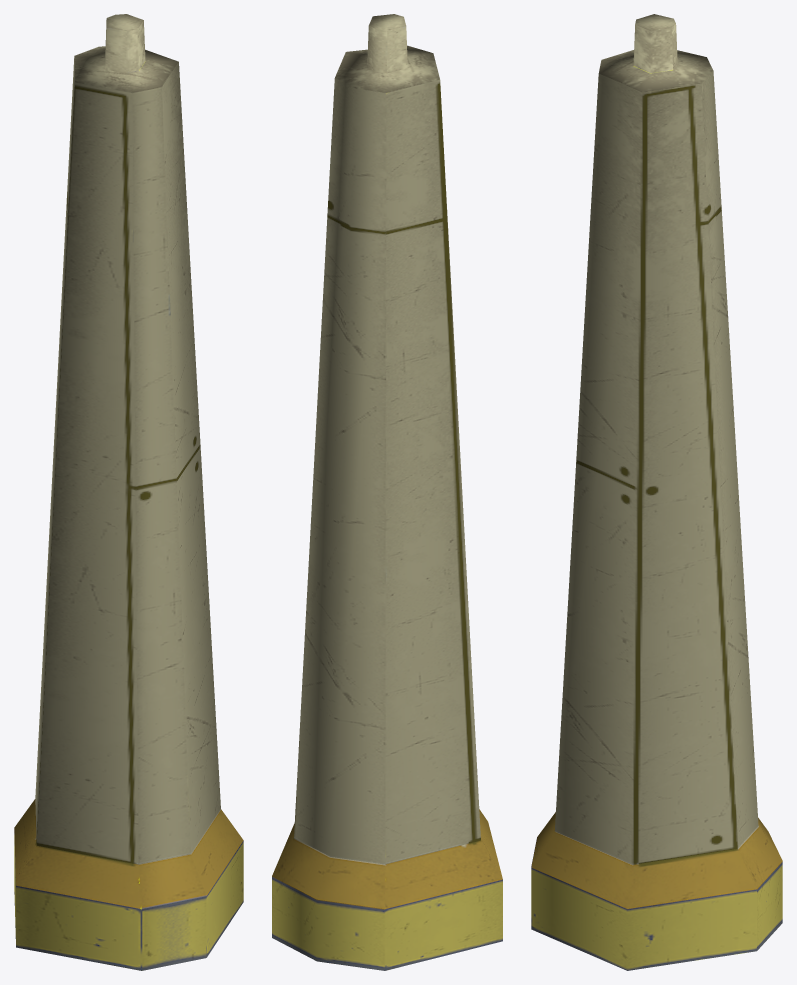
3 renders of one model, left to right at view 1: azimuth 30°, elevation 25°; view 2: azimuth 150°, elevation 25°; view 3: azimuth 270°, elevation 25°, orthographic.
Visible parts, largest first — view 1: polySurface14; view 2: polySurface14; view 3: polySurface14.
Part boxes in pixels (bbox=[...]): polySurface14: bbox=[14, 14, 243, 970]; polySurface14: bbox=[272, 14, 502, 970]; polySurface14: bbox=[531, 14, 782, 970].
Bounding box in the file's own units: 0.2934 × 1.16 × 0.2939.
